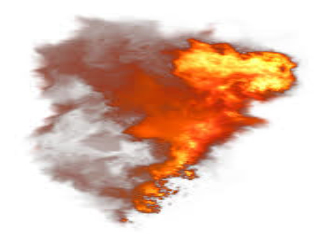fire: (176, 39, 303, 116)
smoke: (32, 74, 165, 206)
